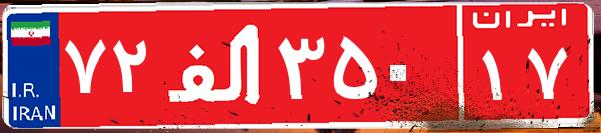0: (385, 28, 445, 110)
1: (475, 38, 525, 113)
2: (110, 28, 158, 105)
3: (273, 28, 330, 110)
5: (330, 28, 385, 110)
7: (57, 26, 110, 107), (525, 38, 570, 115)
الف: (158, 15, 273, 115)
